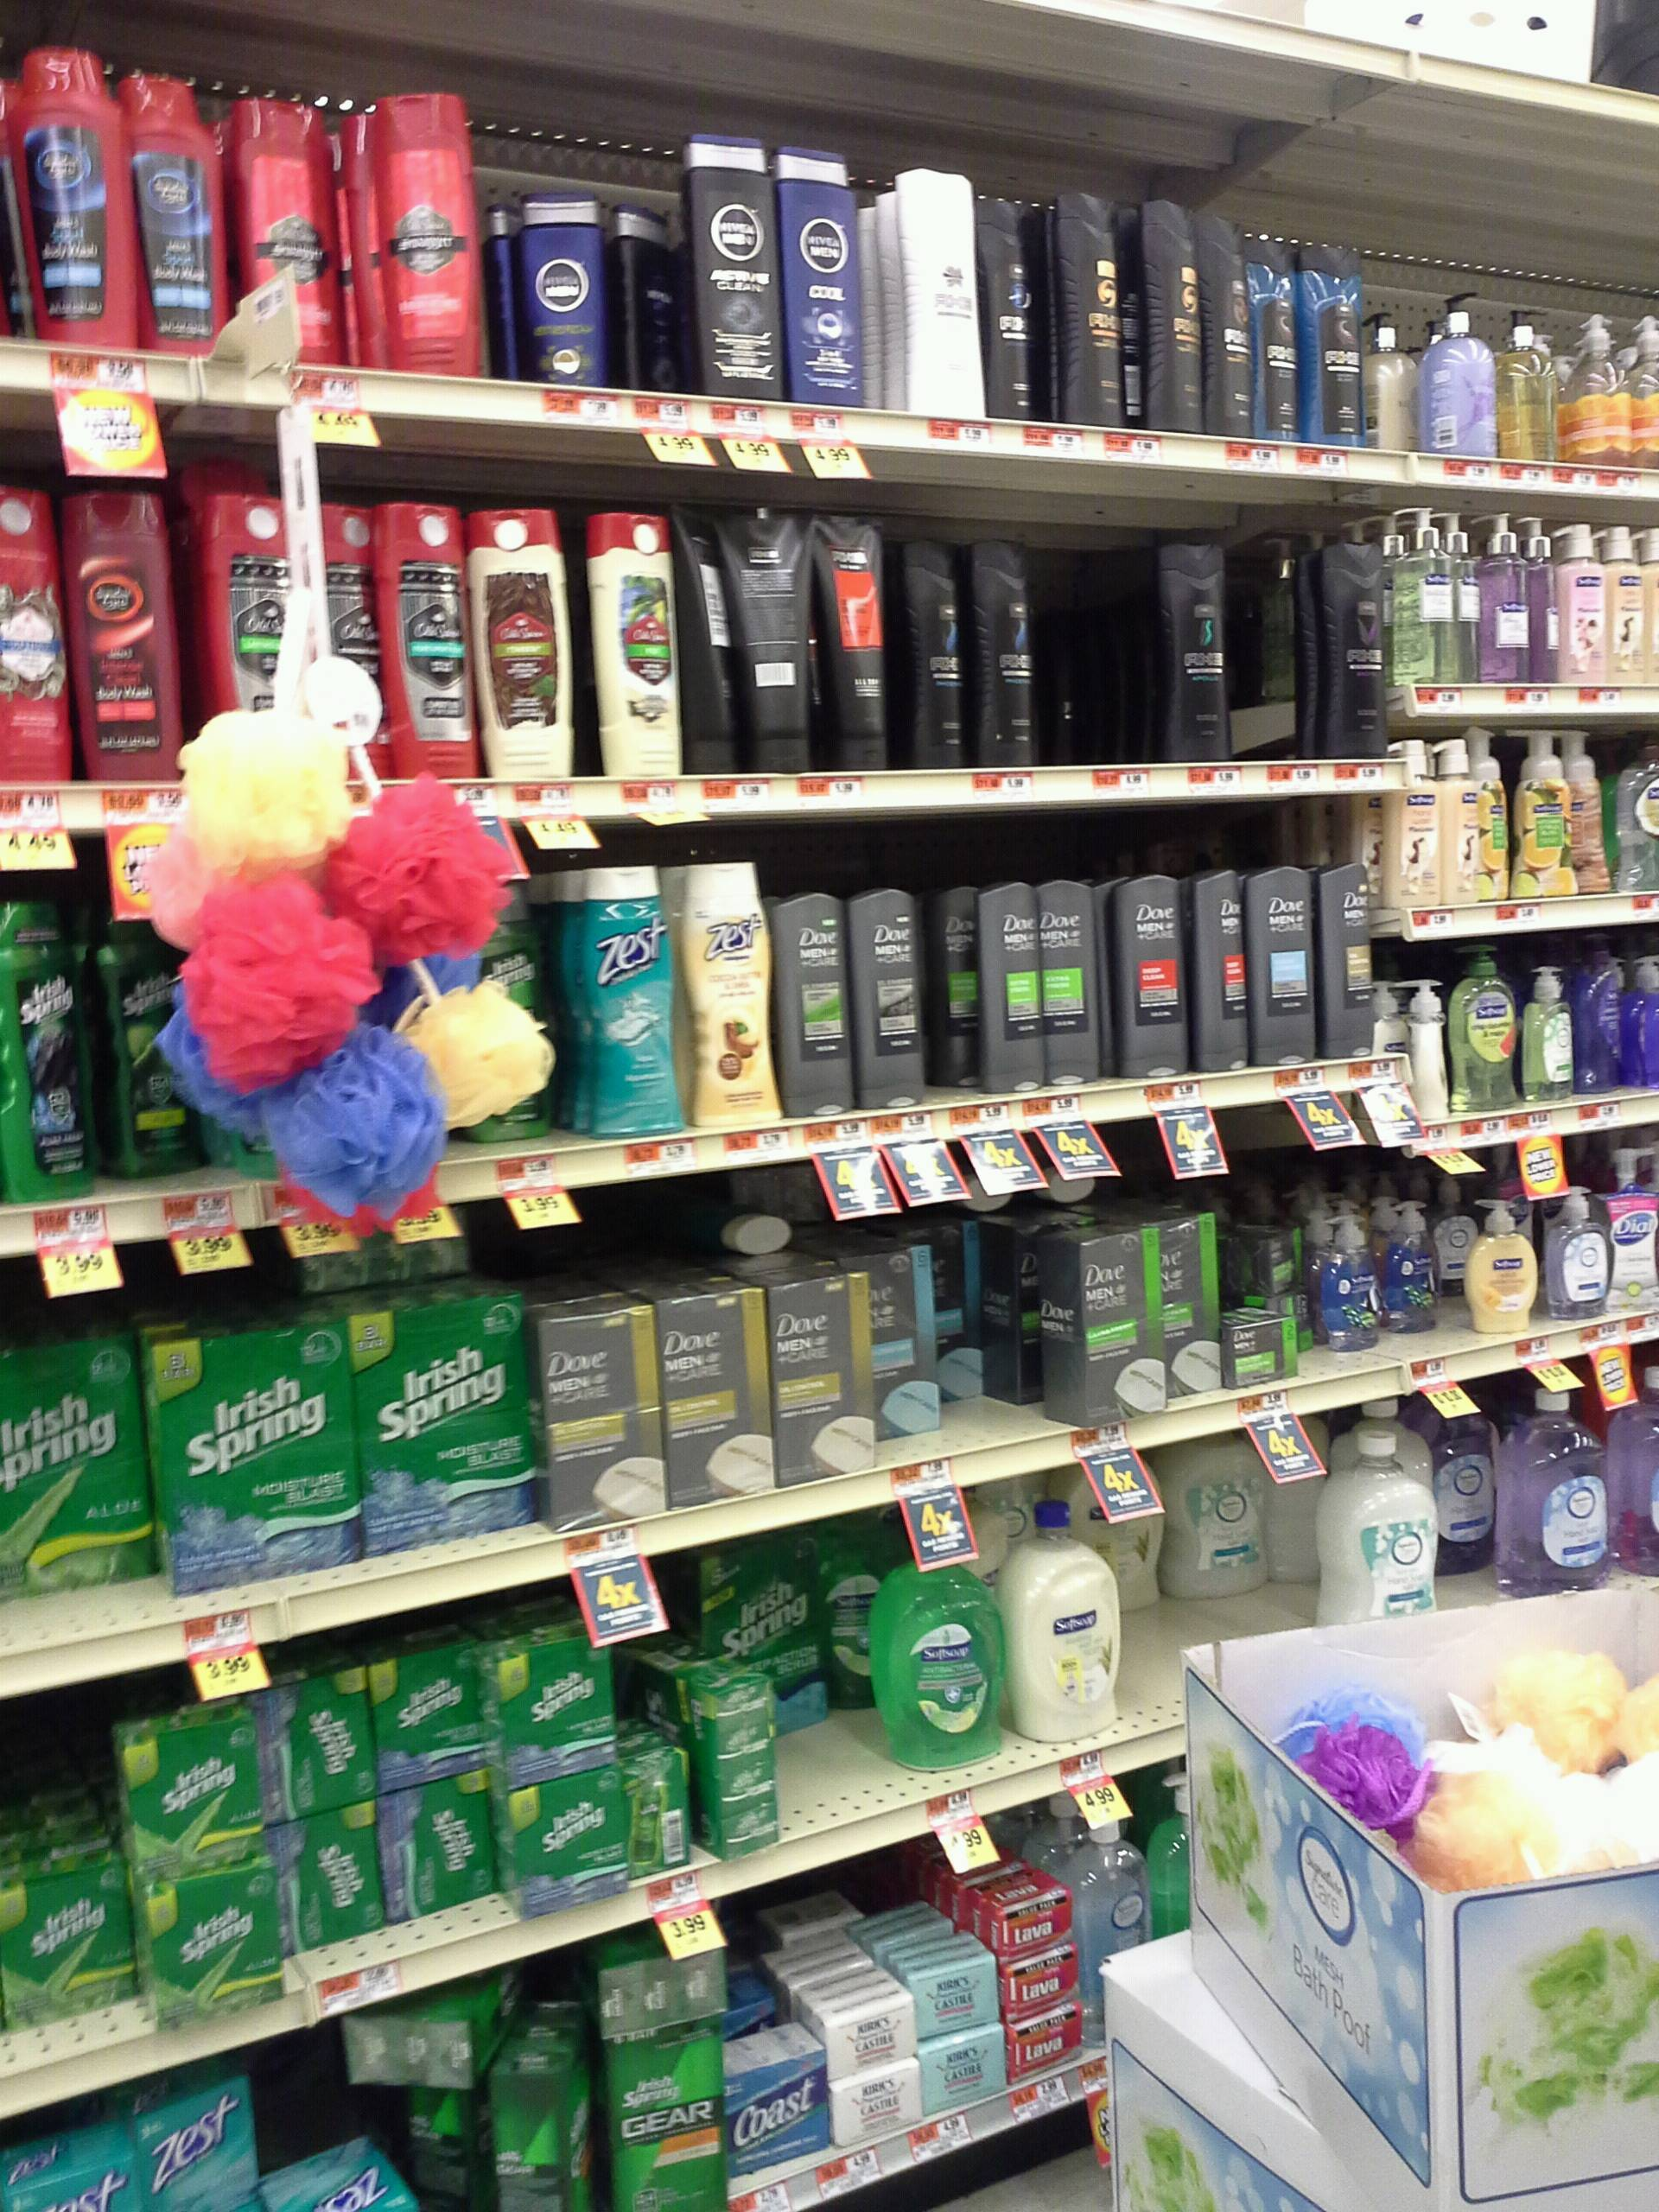Misplacement: (859, 1202, 1096, 1463), (706, 1564, 896, 1846)
Out-of-stock: (1030, 543, 1159, 763)
